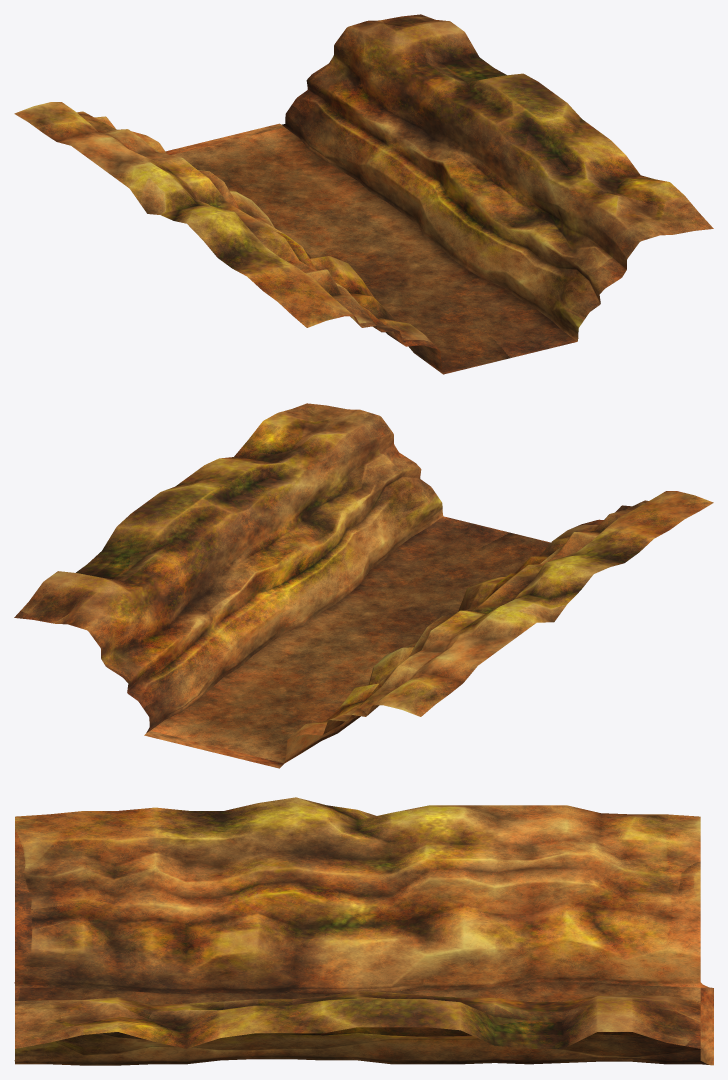
File: chunk-straight.obj
3 renders of one model, top to bottom at view 1: azimuth 30°, elevation 25°; view 2: azimuth 150°, elevation 25°; view 3: azimuth 270°, elevation 25°, orthographic. The views are drawn at different scales.
Parts seen in each view (by area): view 1: Straight; view 2: Straight; view 3: Straight.
Boxes of the visible parts, x1=… form: Straight: x1=14, y1=14, x2=713, y2=374; Straight: x1=14, y1=403, x2=713, y2=768; Straight: x1=14, y1=797, x2=713, y2=1065.
Size of the model in its own units: 241 by 58.09 by 306.
Materials: 1 (1 with a texture image).
